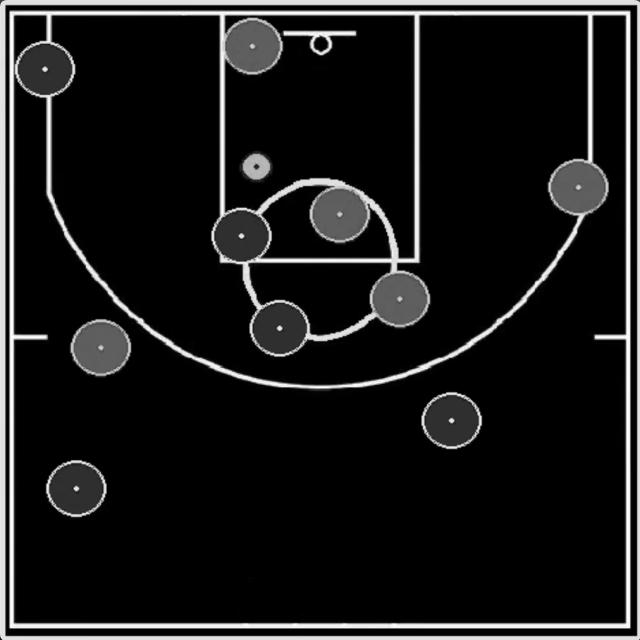Basketball: (239, 151, 273, 183)
Team_A: (46, 460, 106, 518), (212, 207, 272, 264), (422, 392, 482, 449), (15, 41, 74, 98), (250, 300, 310, 356)
Team_B: (70, 319, 132, 376), (370, 271, 430, 328), (548, 159, 608, 215), (225, 17, 282, 75), (310, 188, 370, 242)
